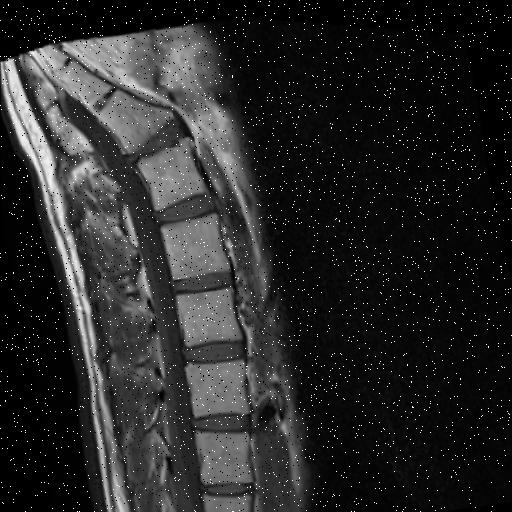L1: (192, 427, 248, 479)
L2: (182, 355, 246, 411)
L3: (175, 283, 239, 342)
L4: (159, 210, 228, 276)
L5: (137, 133, 202, 207)
S1: (95, 87, 171, 151)
